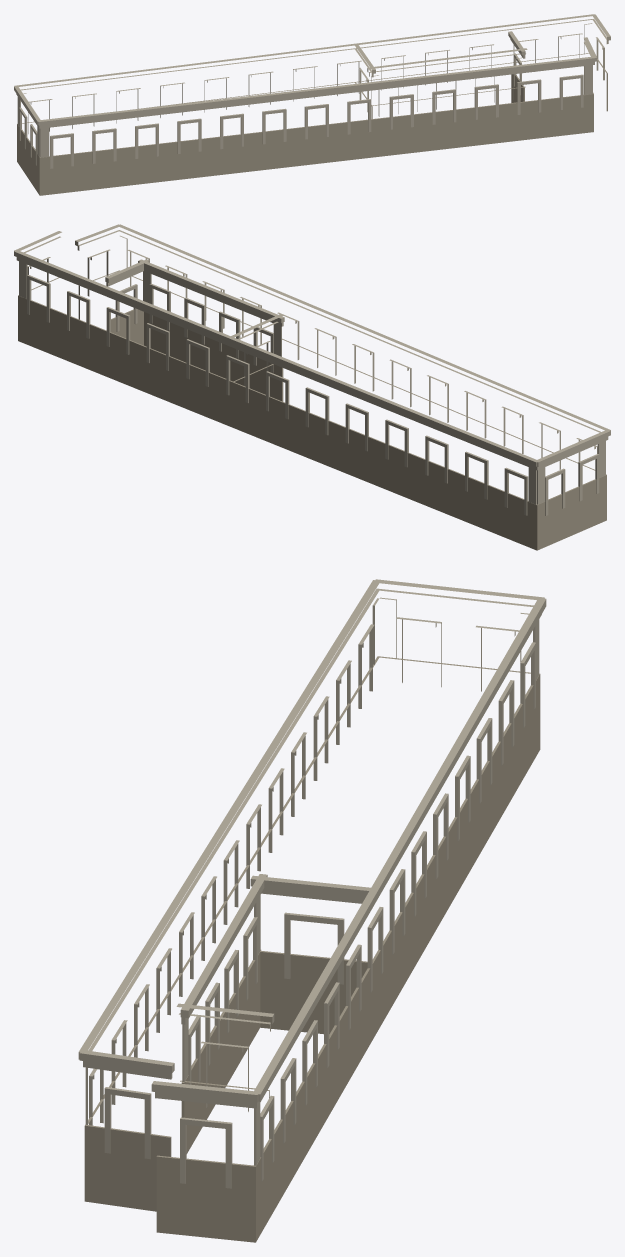
3 views of the same model, one above another, from view 1: azimuth 30°, elevation 25°; view 2: azimuth 150°, elevation 25°; view 3: azimuth 270°, elevation 25° (orthographic). The views are drawn at different scales.
Visible parts, largest first — view 1: detail; view 2: detail; view 3: detail.
Part boxes in pixels (<box>): detail: <box>14,14,610,195</box>; detail: <box>14,224,610,550</box>; detail: <box>78,579,546,1242</box>.
Size of the model in its own units: 41.85 by 5.68 by 16.04.
